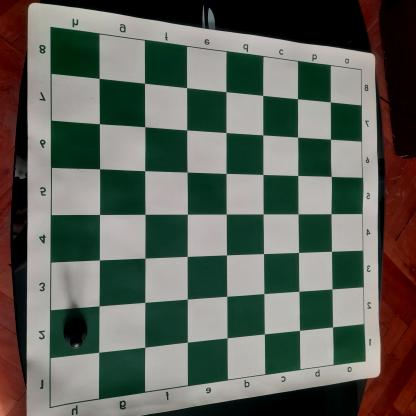black-pawn: (61, 320, 88, 350)
